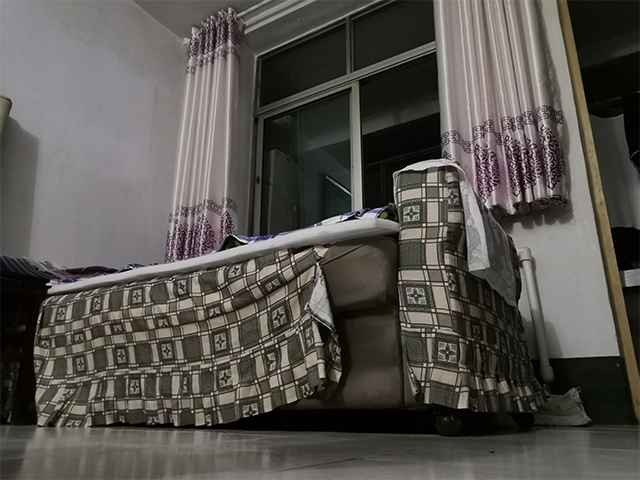bed: (26, 156, 547, 437)
curtain: (430, 1, 567, 215), (164, 10, 244, 258)
table: (1, 270, 52, 427)
